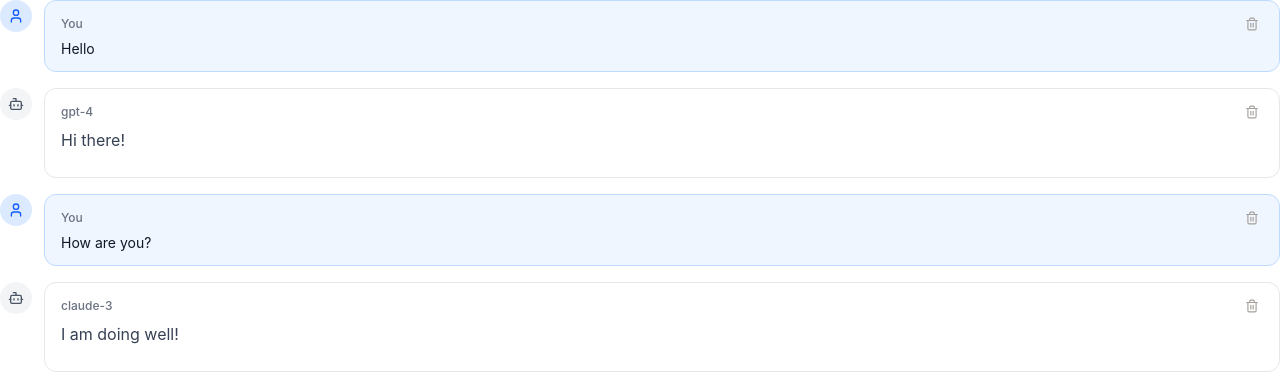
Test: MessageThread › confirms and removes only the selected Dialog
This screenshot has width=1280, height=389.
Click the button named "Delete response" in the row of "gpt-4".
click(1252, 112)  # box [1241, 101, 1263, 123]
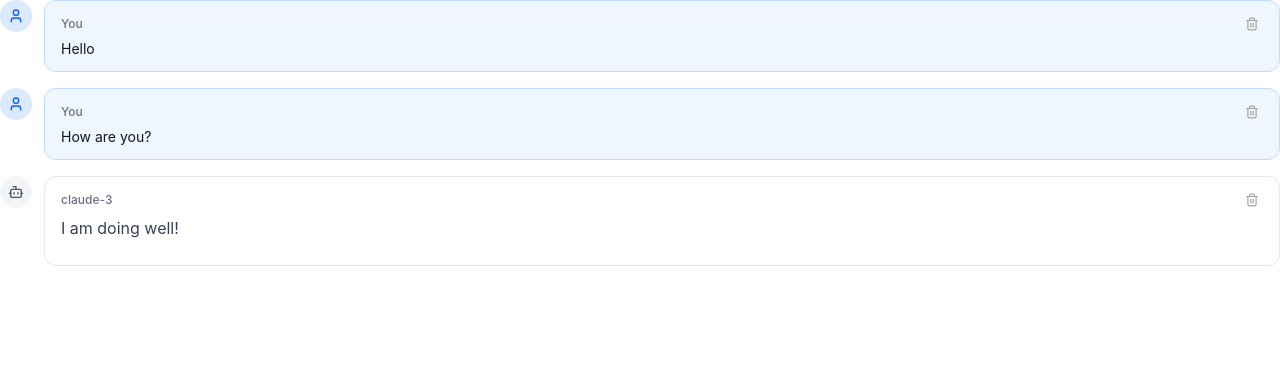
Check: the text "I am doing well!" is shown, box [61, 218, 179, 238]
Check: the text "Hi there!" is gone
